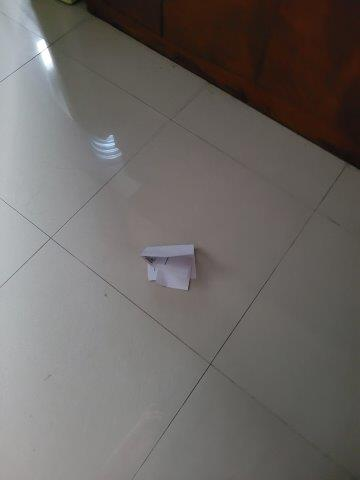kertas: (140, 246, 198, 291)
